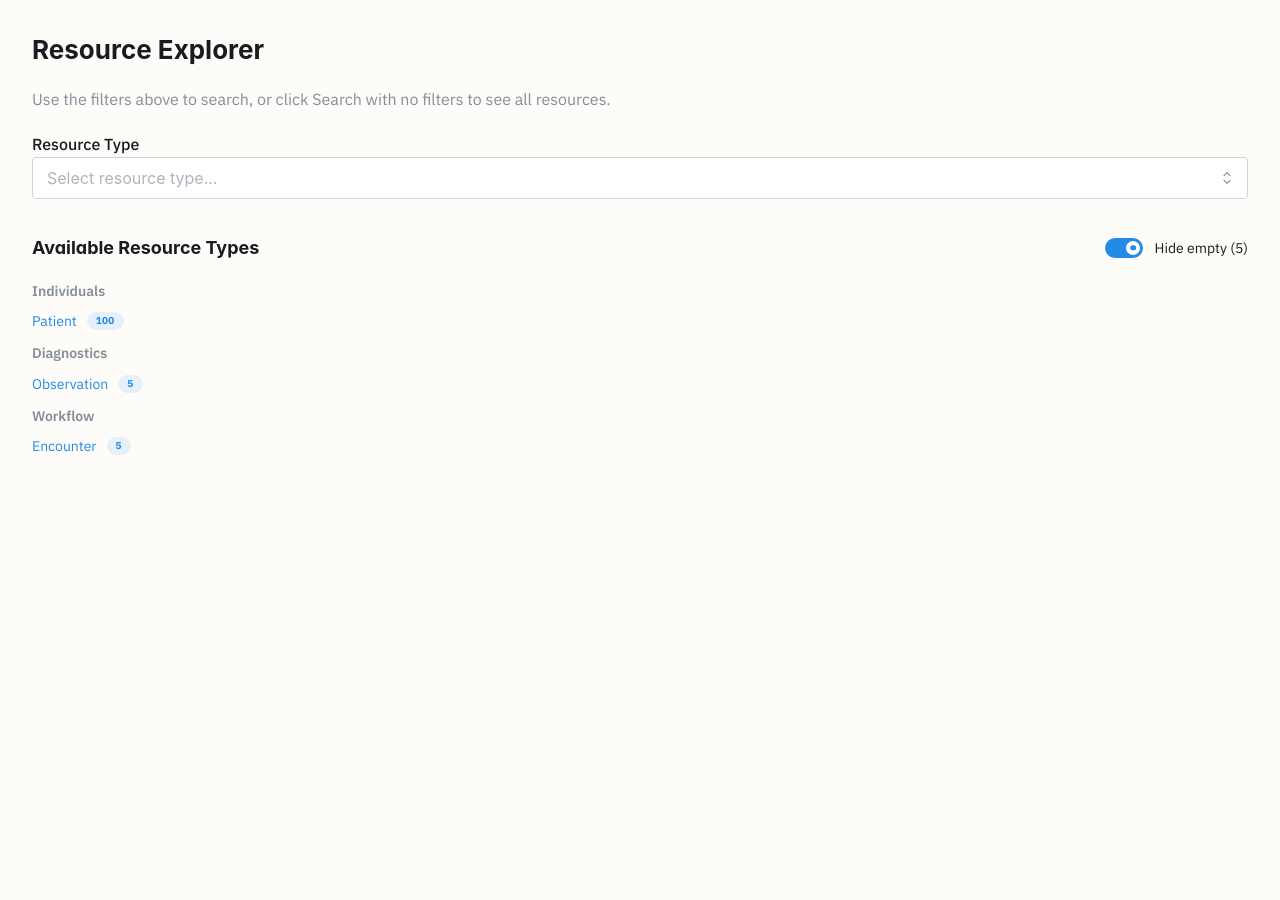
Test: ResourceTypeLanding — EXPL-01 hide-empty toggle › Test 2 — toggling the Switch off reveals zero-count types
This screenshot has width=1280, height=900.
Click the switch labelled "Hide empty (5)": x=1176, y=248 [1105,238,1248,258]
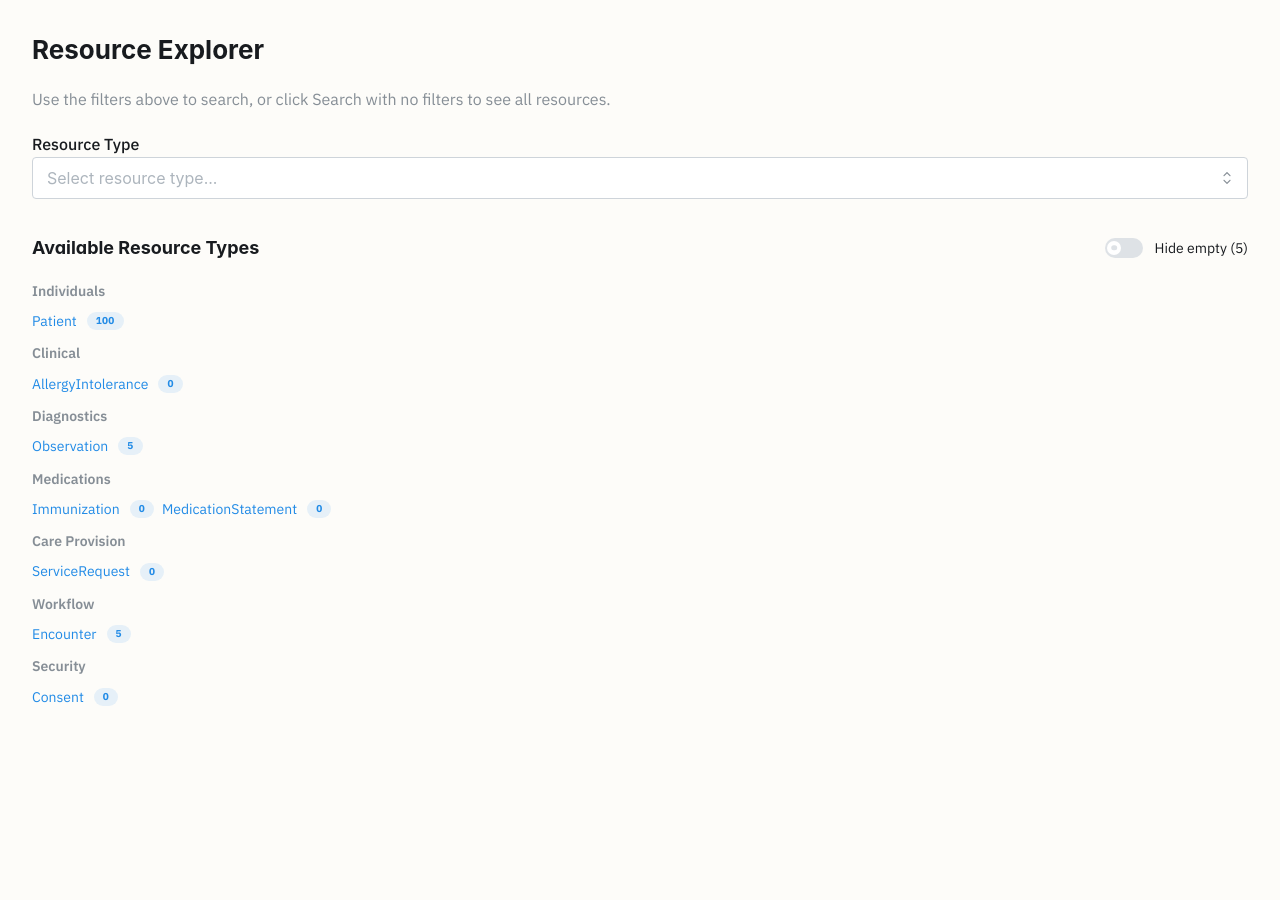
Expected: the text "Patient" is shown, [32,311,77,331]
Expected: the text "Consent" is shown, [32,687,84,707]
Expected: the text "AllergyIntolerance" is shown, [32,374,148,394]
